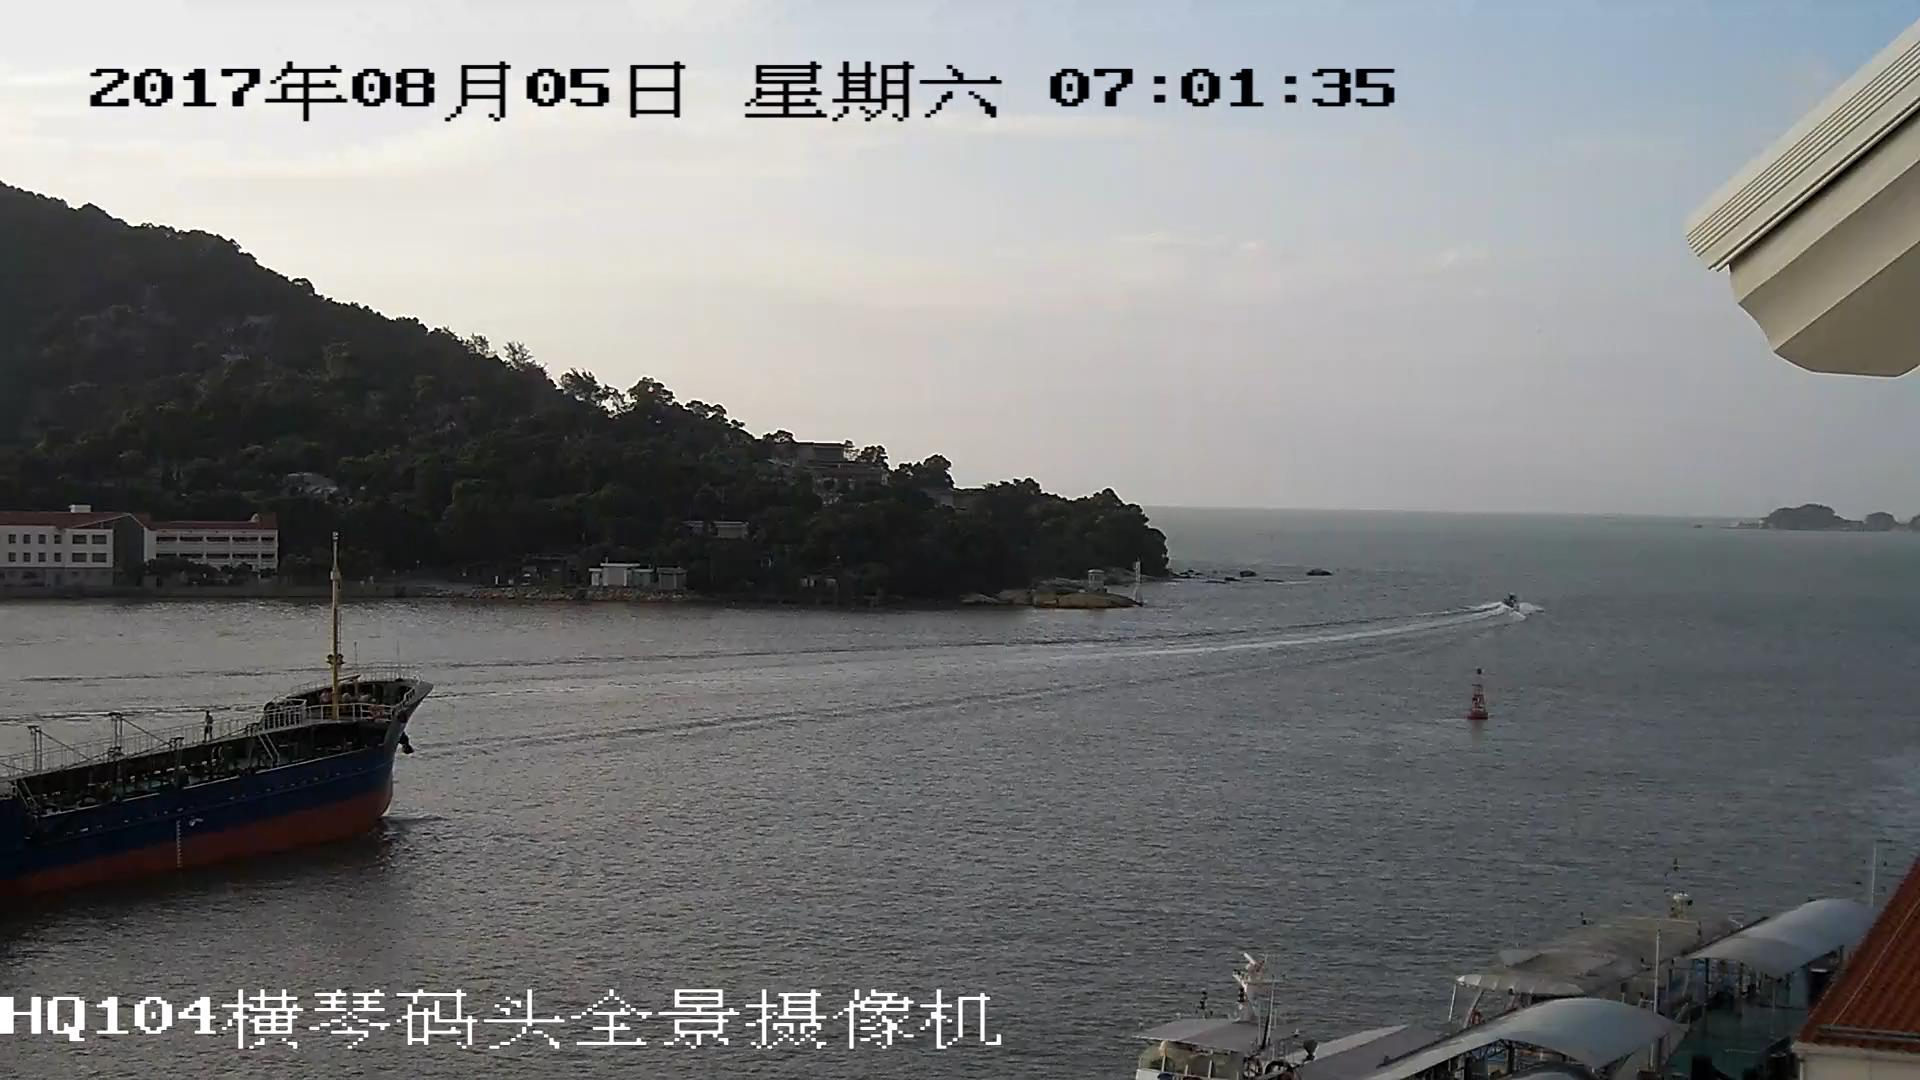Ship: (3, 541, 439, 916)
